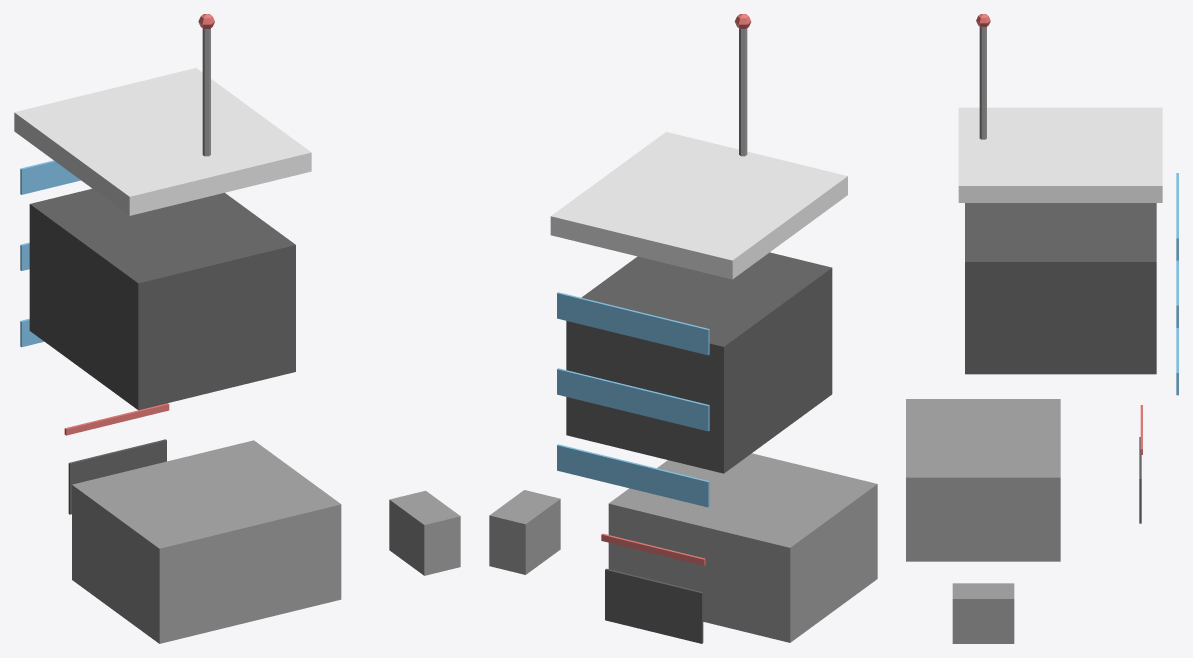
File: timing_tower.glb
3 views of the same model, side by side, from view 1: azimuth 30°, elevation 25°; view 2: azimuth 150°, elevation 25°; view 3: azimuth 270°, elevation 25° (orthographic). The views are drawn at different scales.
Parts seen in each view (by area): view 1: timing_tower; view 2: timing_tower; view 3: timing_tower.
Boxes of the visible parts, box(x1,y1,x2,y2) form: timing_tower: box(14, 14, 460, 643); timing_tower: box(489, 14, 877, 643); timing_tower: box(906, 14, 1178, 643).
Size of the model in its own units: 2.7 by 4.71 by 2.21.
